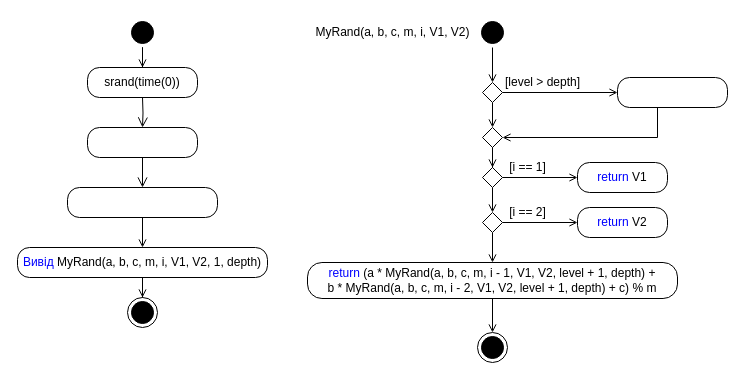
This 745x380 diagram has some shape labels left out. The centre of each missing label's shape, as x and y in pixels:
depth = level: the point at 672,92
V1 = rand(), V2 = rand(): the point at 142,202
Ввід a, b, c, m, i: the point at 142,142
